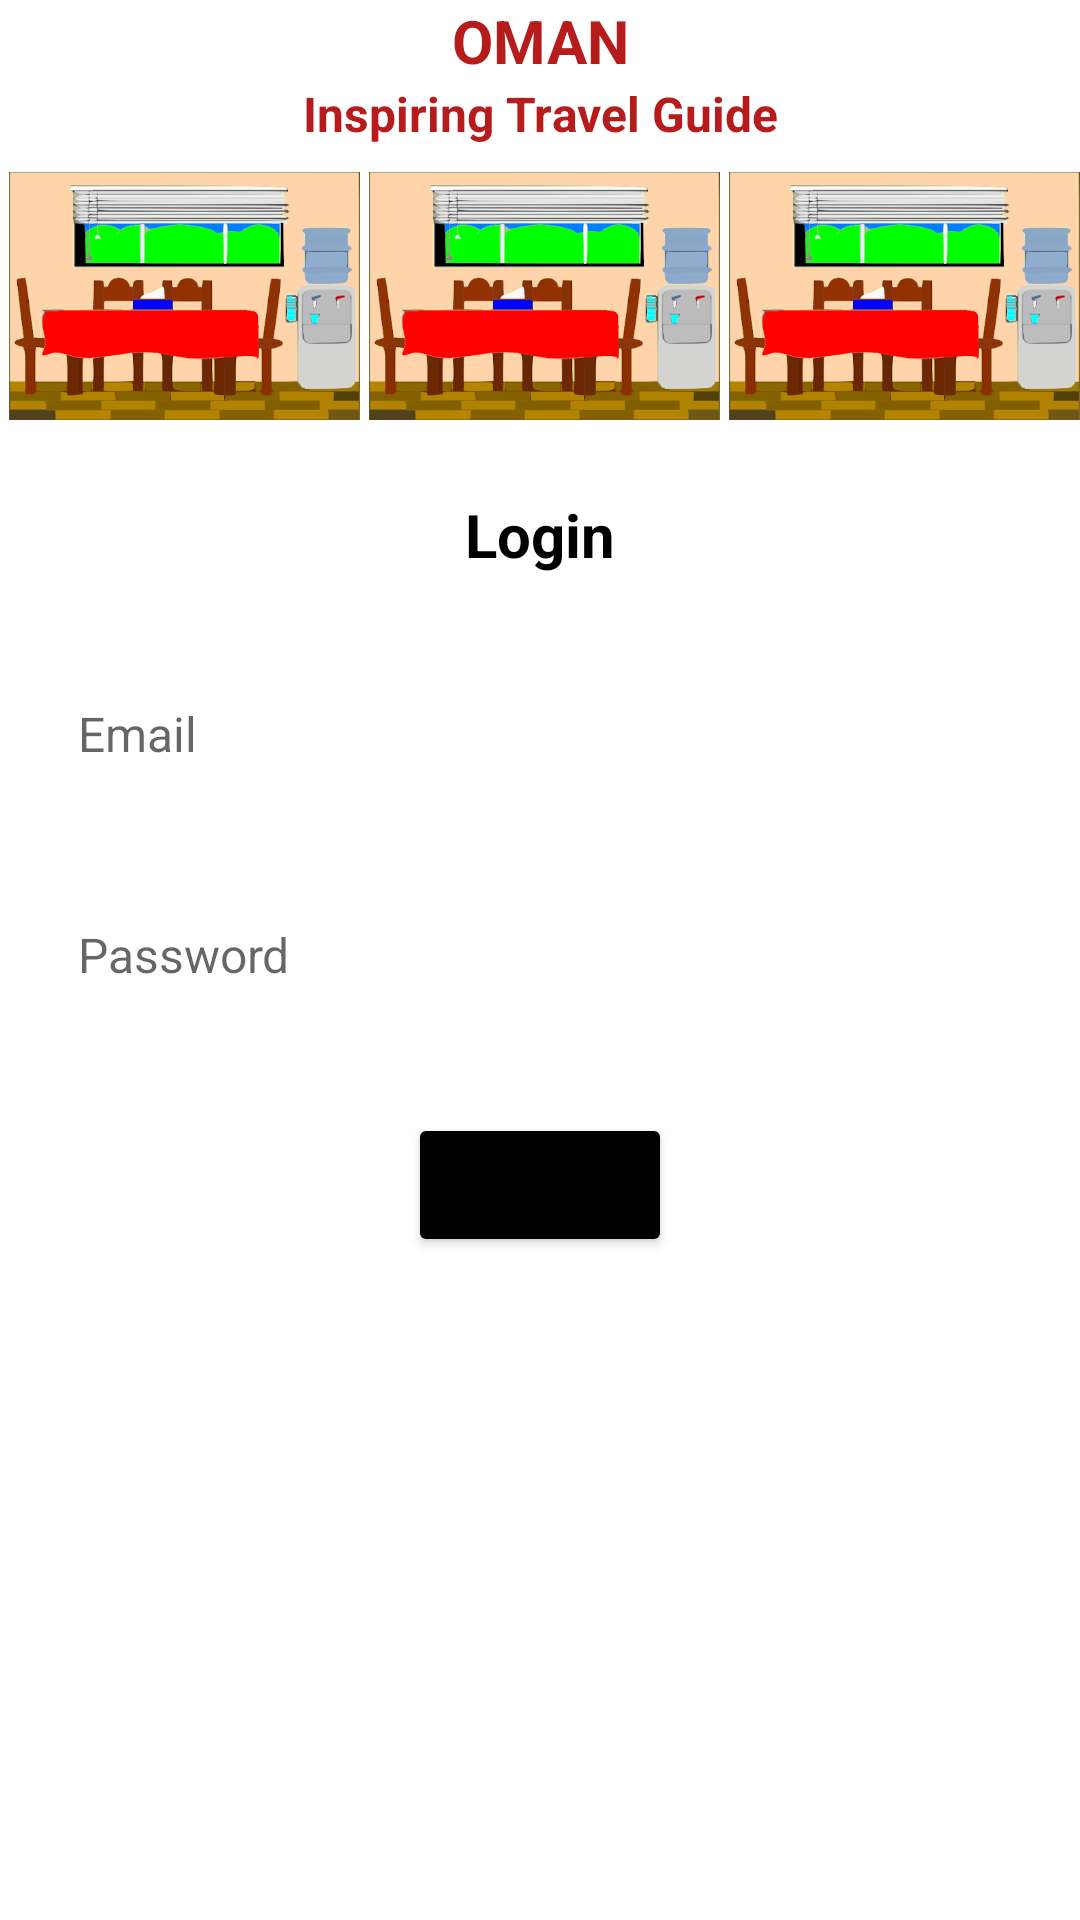

Named icons in this screenshot (1080px x 1920px) and their centers, (x=x, y=y):
room: (x=184, y=296), (x=544, y=296), (x=904, y=296)
